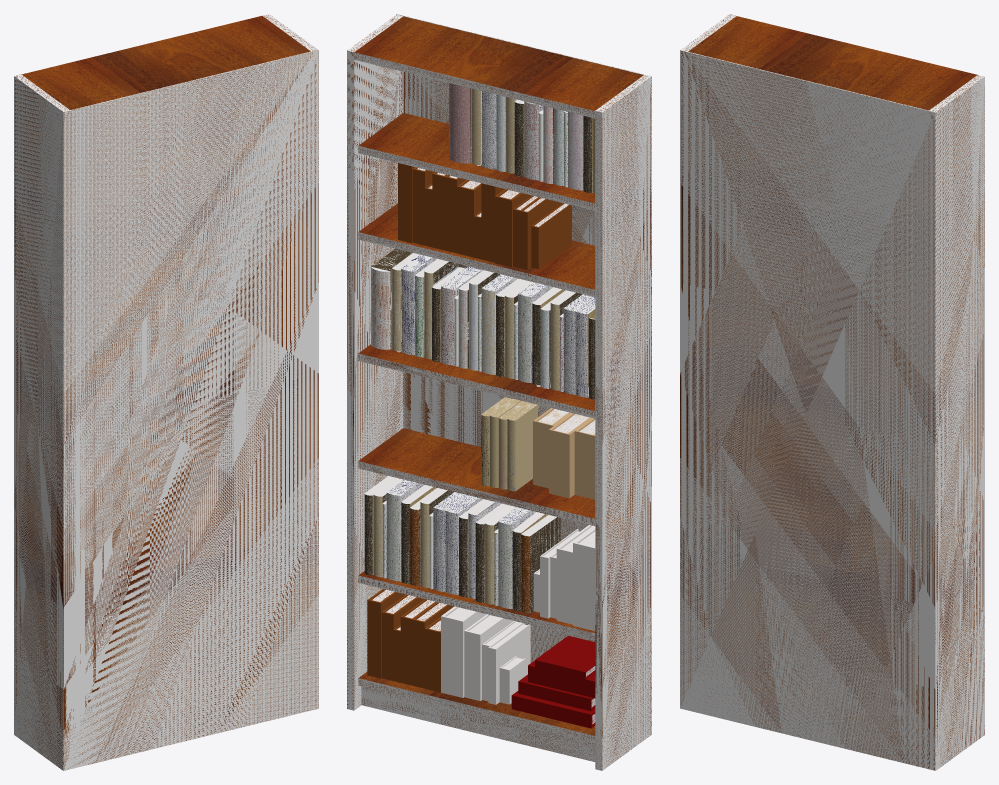
The picture shows the model from 3 angles, left to right: view 1: azimuth 30°, elevation 25°; view 2: azimuth 150°, elevation 25°; view 3: azimuth 330°, elevation 25°; orthographic projection.
Visible parts, largest first — view 1: mesh185_mesh185-geometry, mesh175_mesh175-geometry, mesh181_mesh181-geometry; view 2: mesh175_mesh175-geometry, mesh177_mesh177-geometry, mesh31_mesh31-geometry, mesh181_mesh181-geometry, mesh185_mesh185-geometry, mesh182_mesh182-geometry, mesh29_mesh29-geometry, mesh184_mesh184-geometry, mesh188_mesh188-geometry, mesh190_mesh190-geometry, mesh186_mesh186-geometry, mesh180_mesh180-geometry (+42 smaller); view 3: mesh185_mesh185-geometry, mesh177_mesh177-geometry, mesh181_mesh181-geometry.
Boxes of the visible parts, <box> form: mesh185_mesh185-geometry: <box>63,49,318,770</box>; mesh175_mesh175-geometry: <box>14,74,69,770</box>; mesh181_mesh181-geometry: <box>21,16,310,109</box>; mesh175_mesh175-geometry: <box>595,75,651,770</box>; mesh177_mesh177-geometry: <box>347,14,403,710</box>; mesh31_mesh31-geometry: <box>367,163,571,692</box>; mesh181_mesh181-geometry: <box>354,16,643,118</box>; mesh185_mesh185-geometry: <box>396,14,651,734</box>; mesh182_mesh182-geometry: <box>358,428,595,525</box>; mesh29_mesh29-geometry: <box>441,606,530,704</box>; mesh184_mesh184-geometry: <box>358,113,595,210</box>; mesh188_mesh188-geometry: <box>511,635,595,728</box>; mesh190_mesh190-geometry: <box>533,525,595,630</box>; mesh186_mesh186-geometry: <box>533,408,595,499</box>; mesh180_mesh180-geometry: <box>358,203,595,296</box>; mesh185_mesh185-geometry: <box>680,50,935,770</box>; mesh177_mesh177-geometry: <box>929,75,984,770</box>; mesh181_mesh181-geometry: <box>688,16,977,110</box>.
Size of the model in its own units: 0.3727 by 0.9194 by 0.1255.
